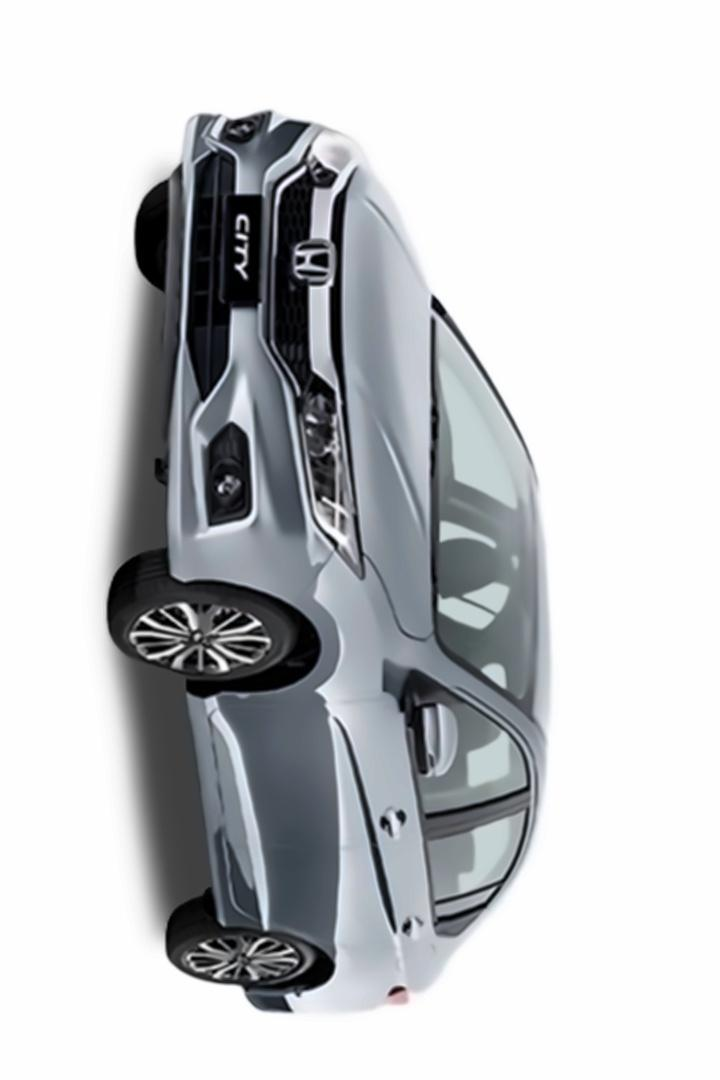Car hood: (334, 152, 441, 648)
Fender - -F-L-: (184, 549, 452, 706)
Fender - -R-L-: (212, 926, 439, 1002)
Front bumper: (156, 102, 310, 604)
Headlight - -L-: (286, 360, 374, 589)
Headlight - -R-: (298, 114, 370, 199)
Passenger-s door - -F-L-: (200, 688, 550, 840)
Passenger-s door - -R-L-: (212, 812, 546, 953)
Rear bumper: (234, 974, 328, 1027)
Rear light - -L-: (378, 978, 424, 1018)
Side bumper - -L-: (180, 680, 244, 942)
Side mirror - -L-: (396, 692, 470, 797)
